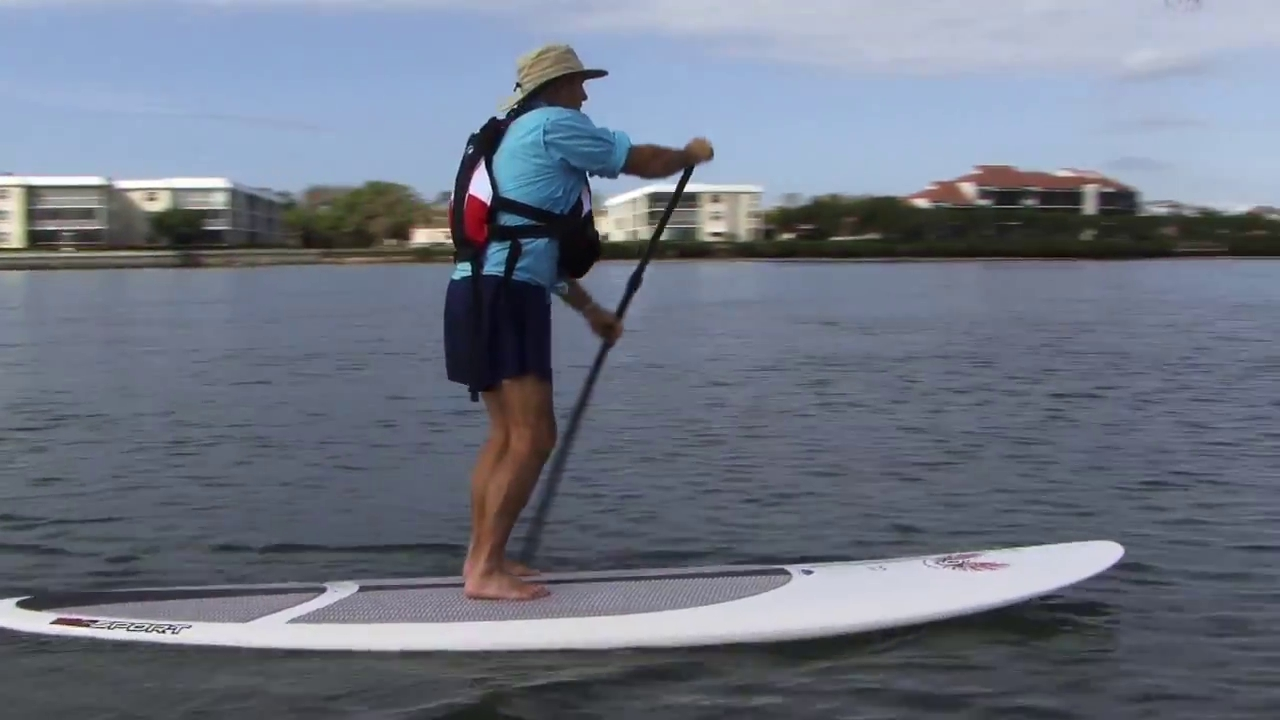person: (443, 45, 714, 602)
